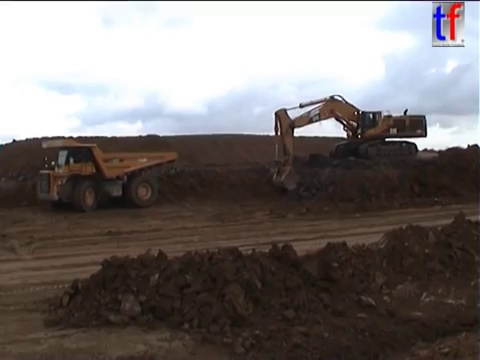excavator: (270, 93, 428, 192)
truck: (35, 136, 178, 212)
